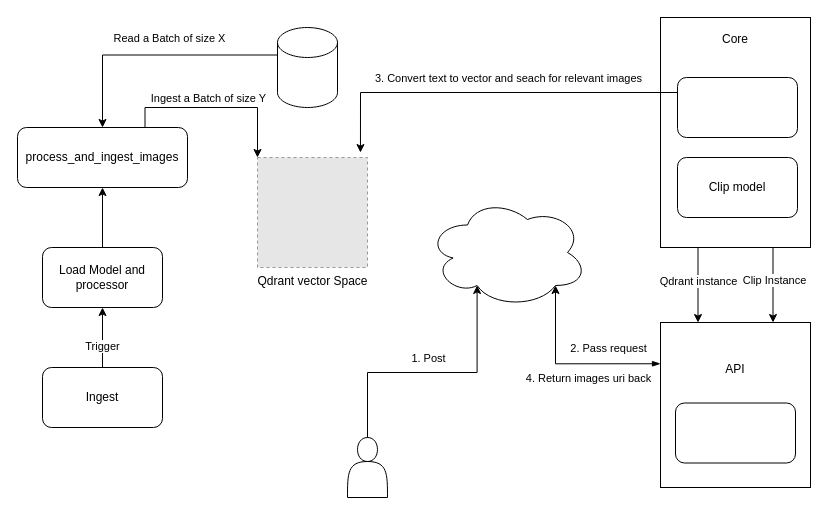
Image size: 828x515. Some labels were removed from this diagram. Grey dashed boxes stand in for pictures. Here are the shapes that lost their labels. From the top down, the centre of each, then its label:
At point (307, 67): "Data".
At point (737, 107): "Qdrant client".
At point (507, 252): "FastAPI".
At point (735, 432): "Logic".
